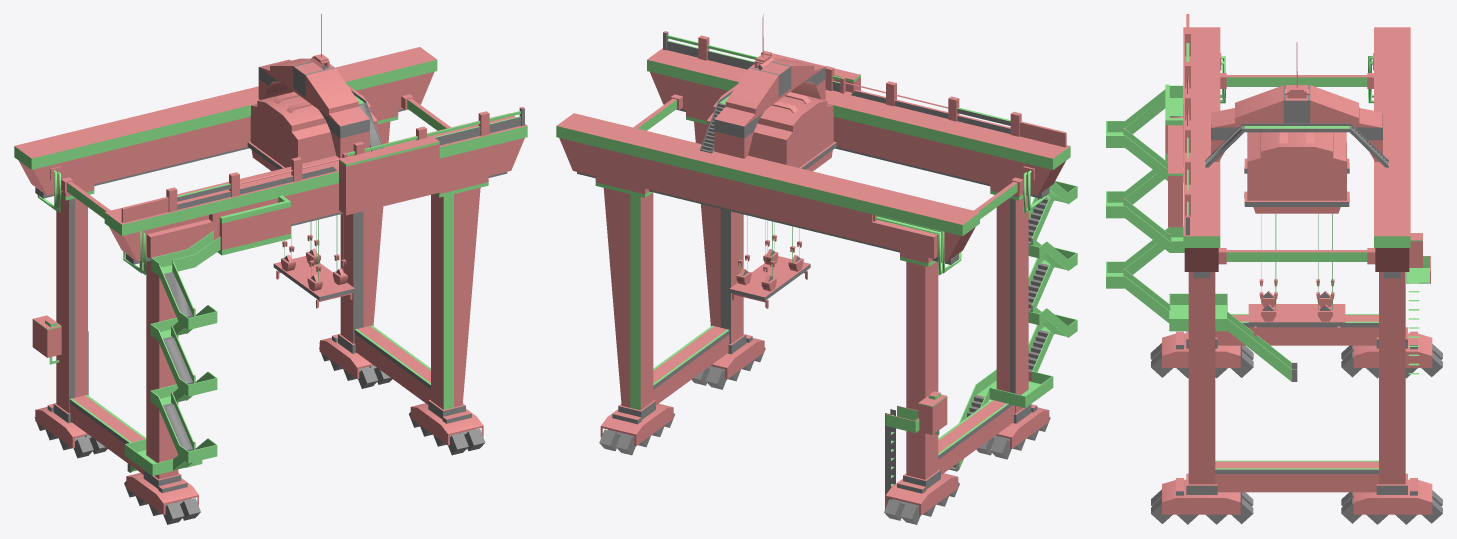
The model's file is S_Envi_Olgk_RTgantryCrane_01_Low.gltf.
The picture shows the model from 3 angles, left to right: view 1: azimuth 30°, elevation 25°; view 2: azimuth 150°, elevation 25°; view 3: azimuth 270°, elevation 25°; orthographic projection. The views are drawn at different scales.
Parts seen in each view (by area): view 1: S_Envi_Olgk_RTgantryCrane_01_Low; view 2: S_Envi_Olgk_RTgantryCrane_01_Low; view 3: S_Envi_Olgk_RTgantryCrane_01_Low.
Part boxes in pixels (bbox=[...]): S_Envi_Olgk_RTgantryCrane_01_Low: bbox=[14, 14, 527, 524]; S_Envi_Olgk_RTgantryCrane_01_Low: bbox=[556, 14, 1077, 524]; S_Envi_Olgk_RTgantryCrane_01_Low: bbox=[1106, 14, 1442, 524].
Bounding box in the file's own units: 44.01 × 42.6 × 29.99.
